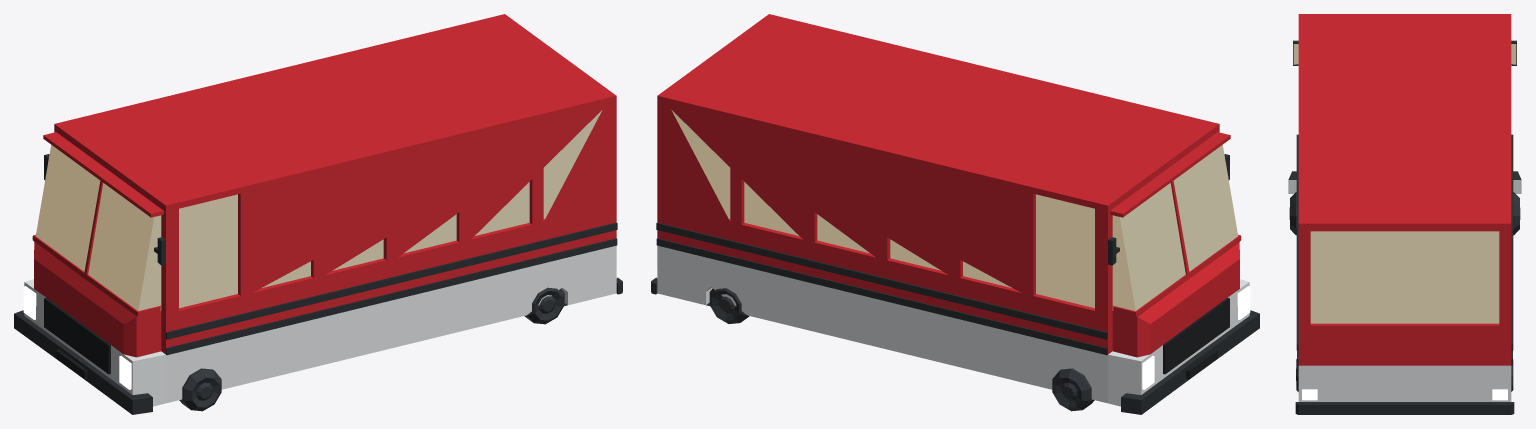
File: bus.glb
3 renders of one model, left to right at view 1: azimuth 30°, elevation 25°; view 2: azimuth 150°, elevation 25°; view 3: azimuth 270°, elevation 25°, orthographic. The views are drawn at different scales.
Parts seen in each view (by area): view 1: Bus_Cube.001, FrontWheels_Cylinder.006, BackWheels_Cylinder.007; view 2: Bus_Cube.001, FrontWheels_Cylinder.006, BackWheels_Cylinder.007; view 3: Bus_Cube.001, FrontWheels_Cylinder.006.
Boxes of the visible parts, x1,y1,x2,y2 form: Bus_Cube.001: (14,14,622,414); FrontWheels_Cylinder.006: (179,368,221,411); BackWheels_Cylinder.007: (524,287,564,324); Bus_Cube.001: (651,14,1259,414); FrontWheels_Cylinder.006: (1052,368,1094,411); BackWheels_Cylinder.007: (709,288,749,323); Bus_Cube.001: (1288,14,1521,414); FrontWheels_Cylinder.006: (1289,192,1520,235).
Bounding box in the file's own units: 4.09 × 1.68 × 1.74.
